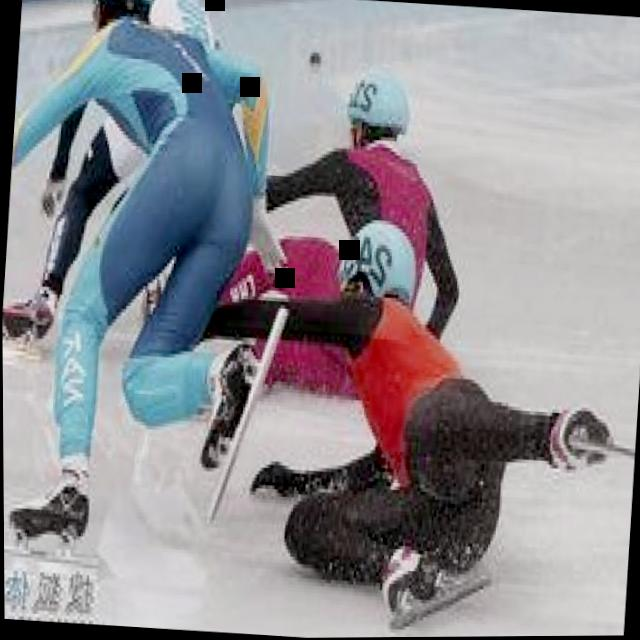Fall-Detected: (0, 0, 296, 542)
